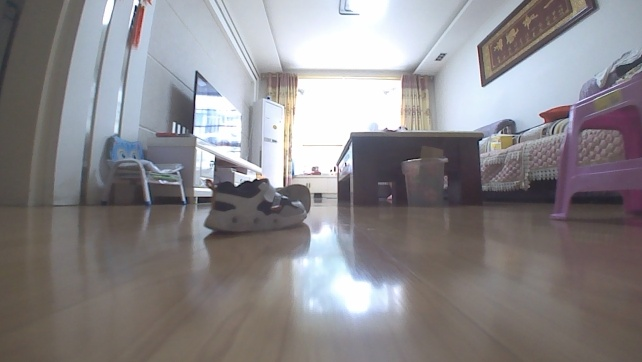TV_stand: (142, 134, 265, 206)
shoe: (201, 178, 309, 234)
sofa: (477, 105, 630, 202)
tea_table: (331, 129, 487, 208)
